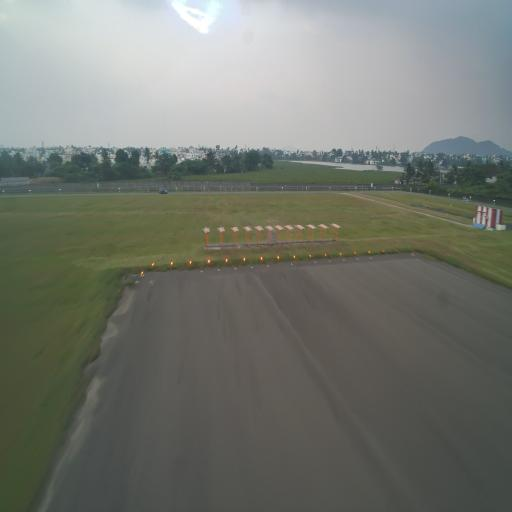on: (276, 253, 281, 263), (151, 261, 156, 269), (338, 250, 343, 258), (188, 258, 192, 267), (259, 254, 263, 263), (292, 253, 296, 262), (367, 249, 372, 256), (394, 247, 399, 254), (207, 258, 211, 266), (308, 252, 312, 260), (140, 270, 144, 277), (353, 249, 357, 256), (170, 260, 174, 266), (225, 256, 228, 264), (324, 252, 328, 257), (381, 248, 385, 253), (243, 257, 246, 263)
